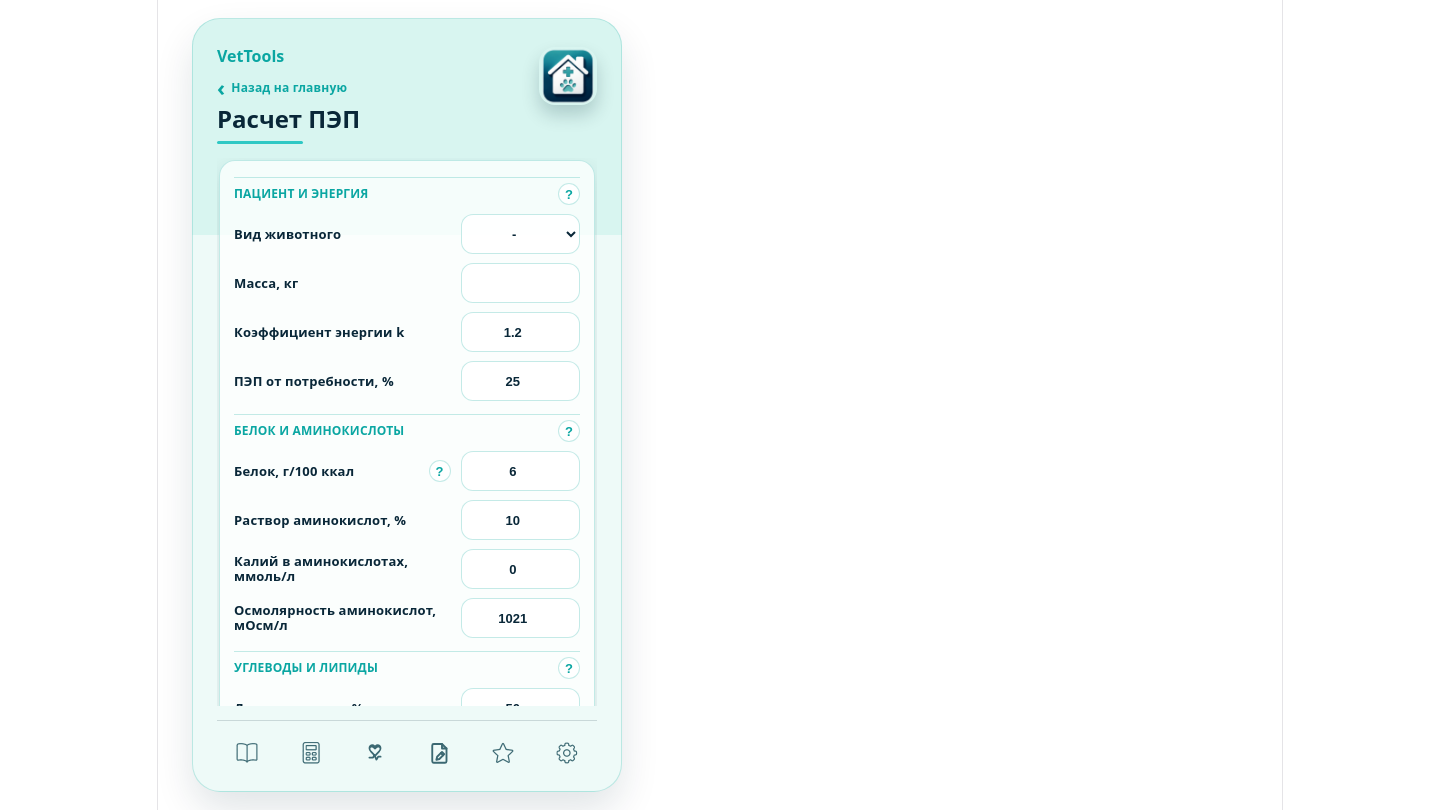
Test: PepPage › renders compact parameter/value inputs and calculates the more than 2 kg protocol
The image size is (1440, 810).
Check: the heading "Расчет ПЭП" is shown, box 217,106 -> 360,144
Check: the dropdown named "Вид животного" shows "-", box 460,214 -> 580,254
Click the button named "Показать подсказку: Пациент и энергия": coordinates (569, 194) 558,184 -> 580,206
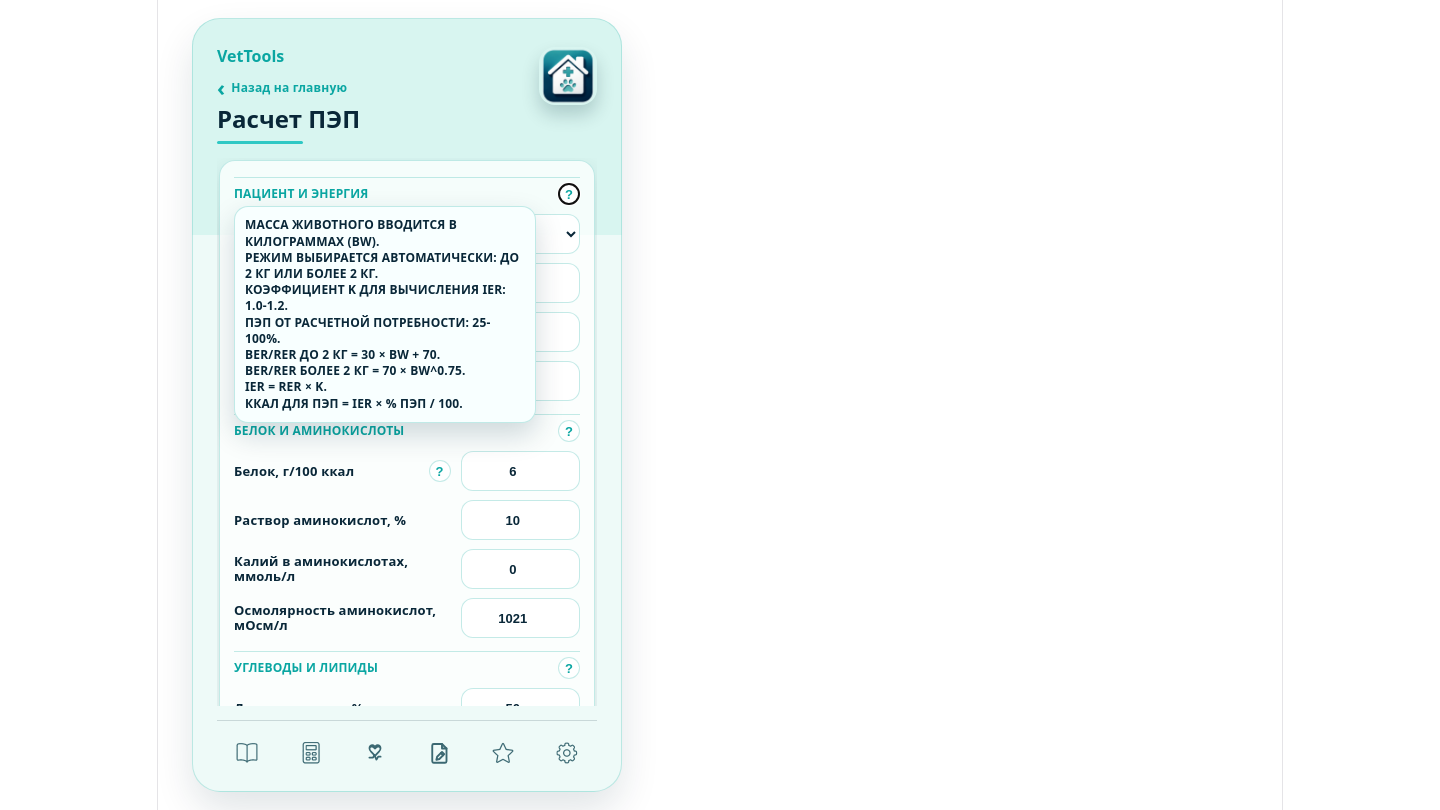
Check: the dialog named "Пациент и энергия" shows "BER/RER до 2 кг = 30 × BW + 70.", box 245,216 -> 519,412
Check: the dialog named "Пациент и энергия" shows "BER/RER более 2 кг = 70 × BW^0.75.", box 245,216 -> 519,412
Click the button named "Показать подсказку: Пациент и энергия": coordinates (569, 194) 558,184 -> 580,206
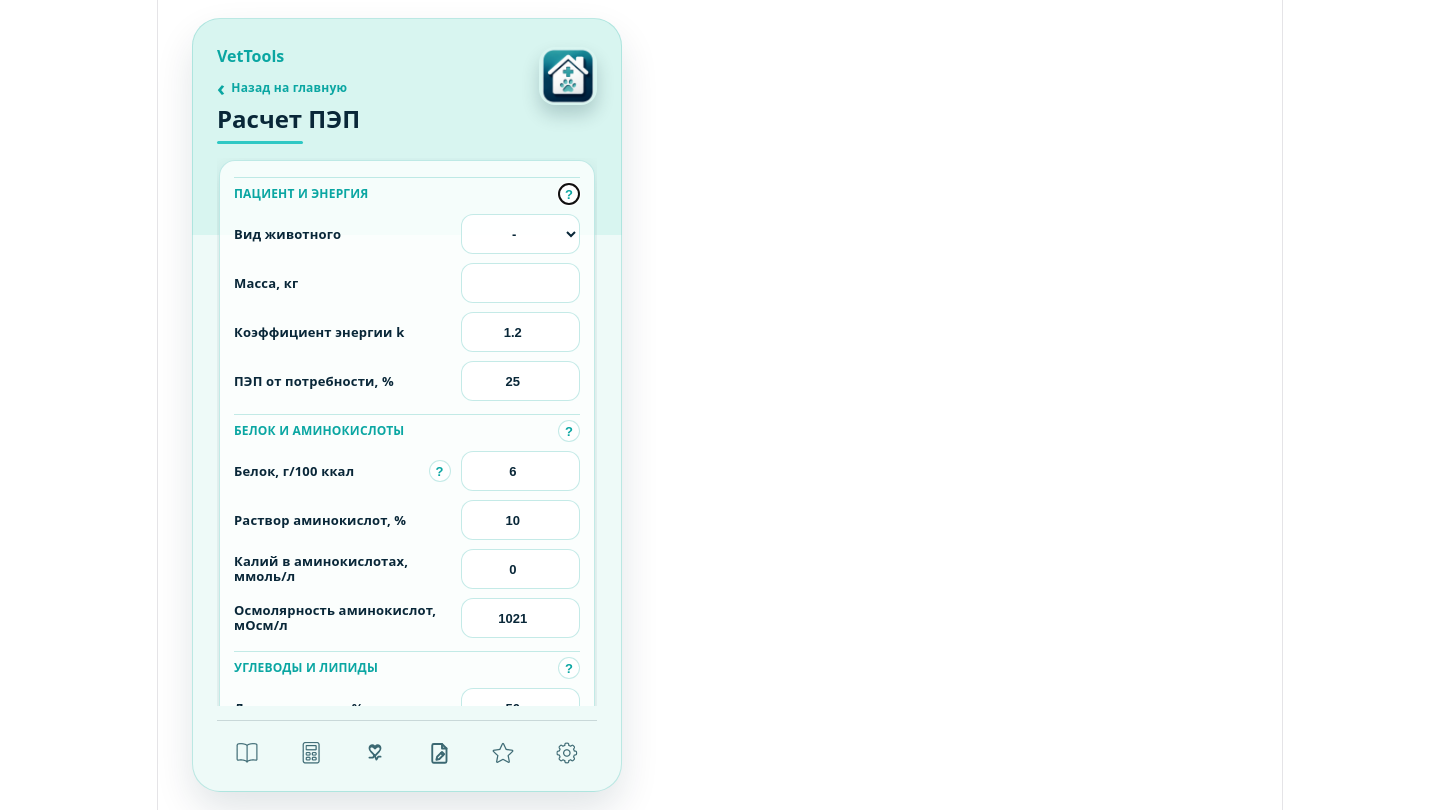
Select "Собака" in the dropdown named "Вид животного": coordinates (520, 234) 460,214 -> 580,254
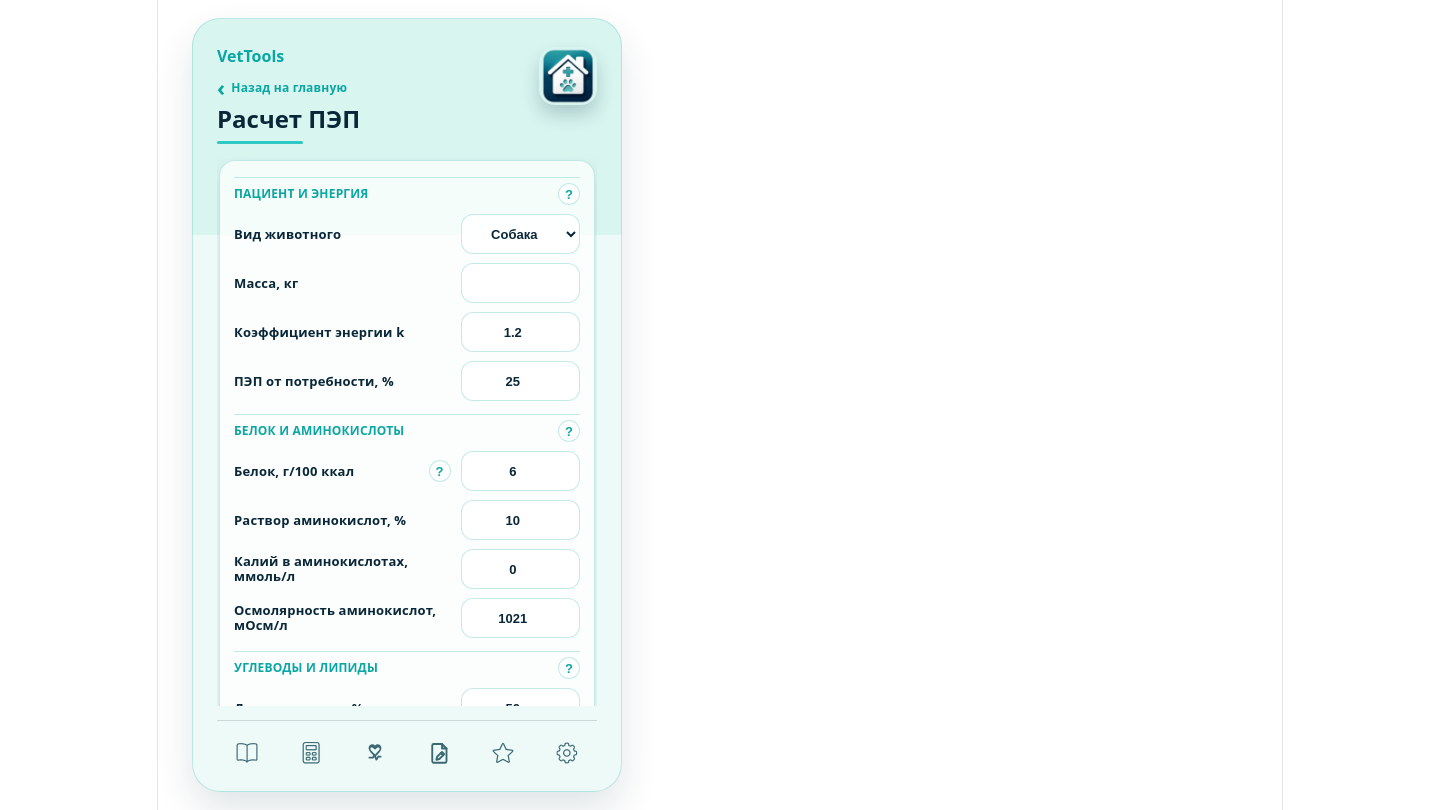
In the number field named "Масса, кг": coordinates (520, 284) 460,264 -> 580,304, type "4.7"
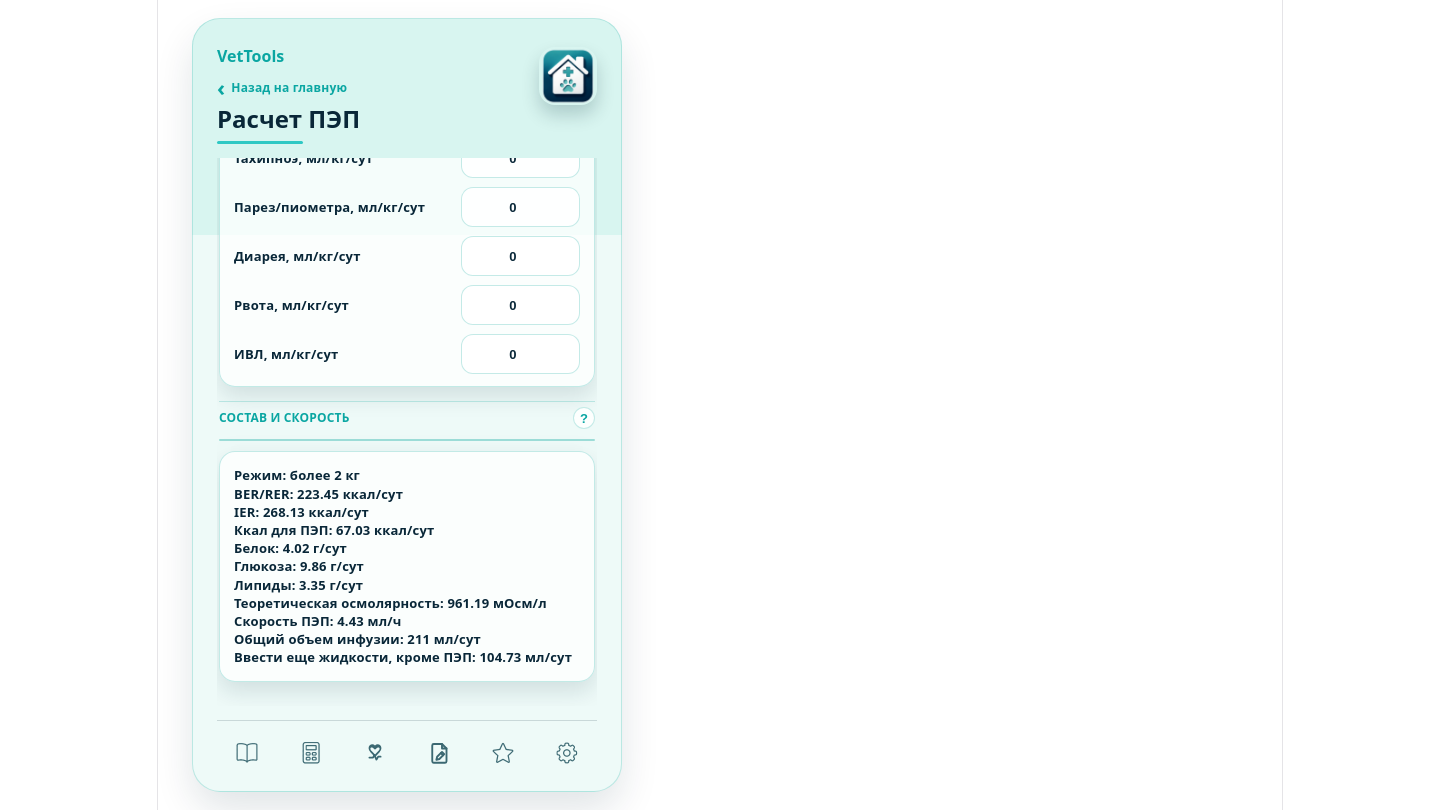
Check: the text "Ввести еще жидкости, кроме ПЭП: 104.73 мл/сут" is shown, box 234,466 -> 572,666
Click the button named "Показать подсказку: Состав и скорость": coordinates (584, 418) 573,408 -> 595,430
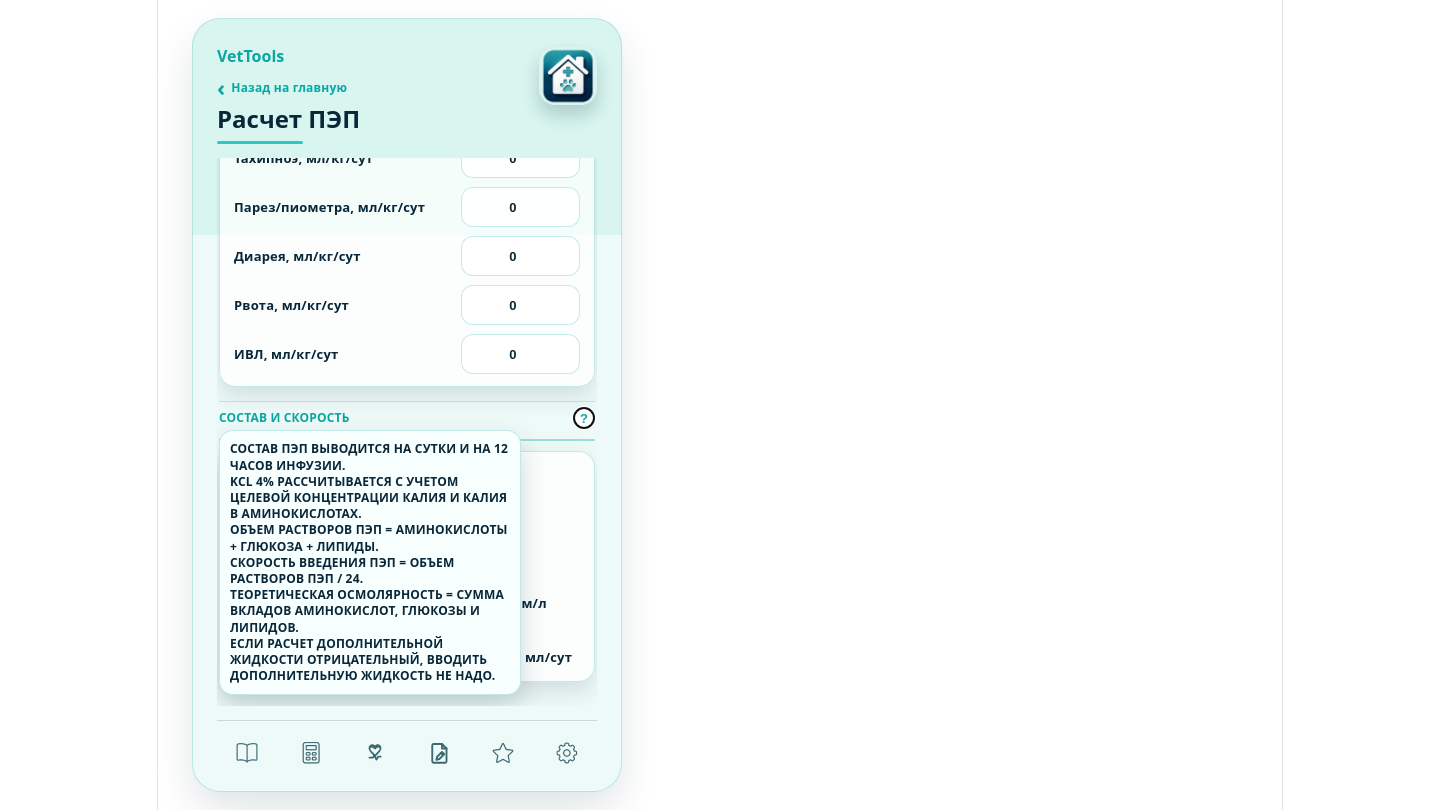
Check: the dialog named "Состав и скорость" shows "Скорость введения ПЭП = объем растворов ПЭП / 24.", box 230,440 -> 508,684
